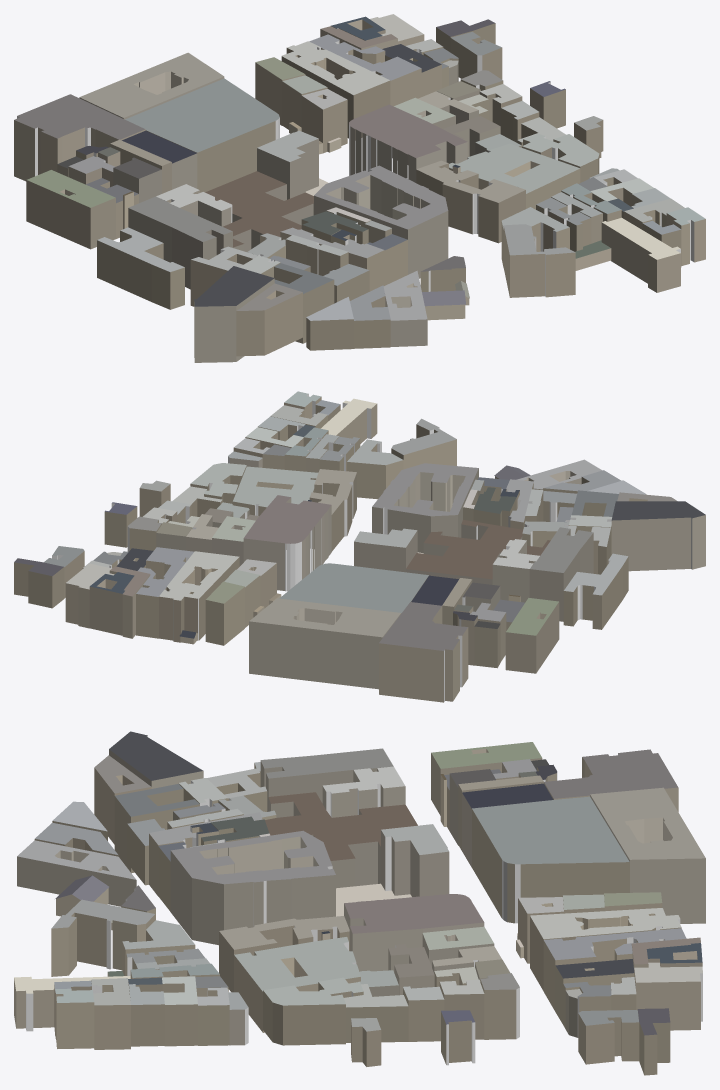
3 views of the same model, one above another, from view 1: azimuth 30°, elevation 25°; view 2: azimuth 150°, elevation 25°; view 3: azimuth 270°, elevation 25° (orthographic). The views are drawn at different scales.
Parts seen in each view (by area): view 1: tuile; view 2: tuile; view 3: tuile.
Boxes of the visible parts, box(x1,y1,x2,y2) form: tuile: box(14, 14, 705, 362); tuile: box(14, 391, 705, 702); tuile: box(14, 731, 705, 1075).
Size of the model in its own units: 281 by 36.38 by 282.
